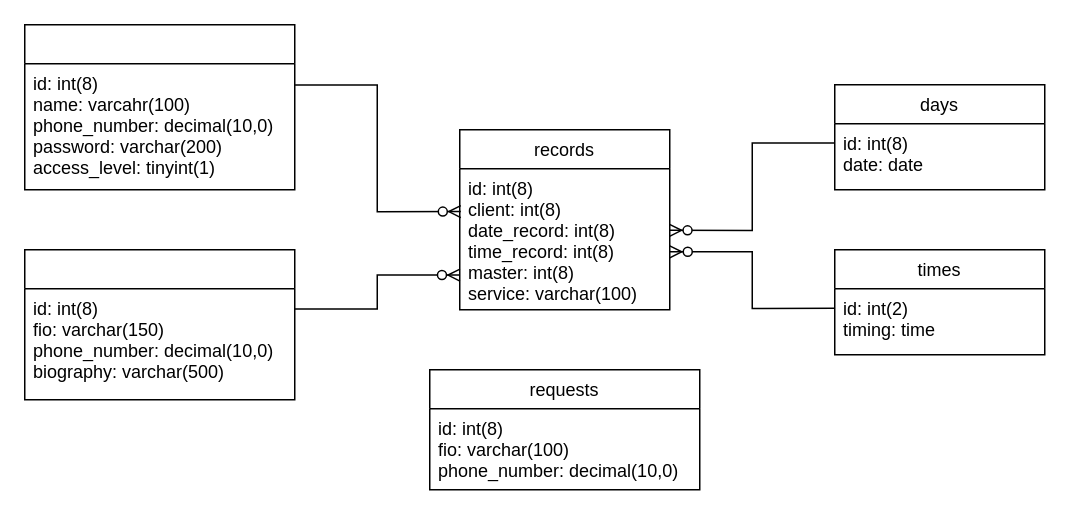
Some shapes in this 1070 by 515 pixel diagram are drawn without their labels. Each missing label, with the box of its shape:
masters: (23, 248, 295, 400)
users: (23, 23, 295, 190)
